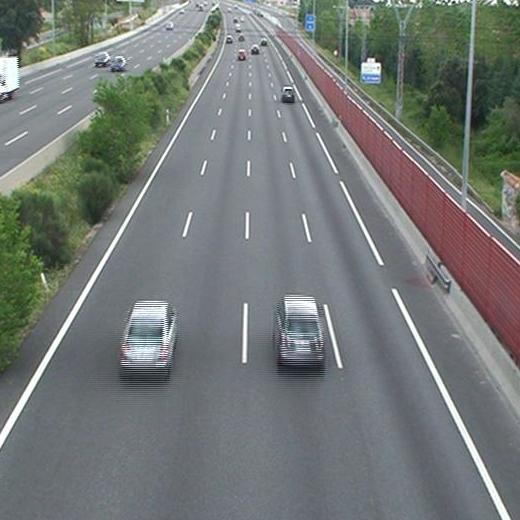car: (121, 301, 174, 372), (276, 297, 324, 364), (282, 87, 294, 103), (237, 50, 246, 59), (250, 46, 258, 54), (225, 35, 232, 43), (260, 38, 267, 45)
